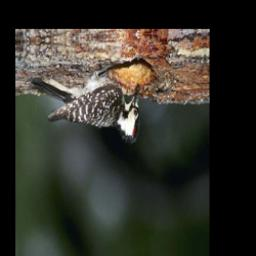Woodpecker: (30, 56, 143, 154)
